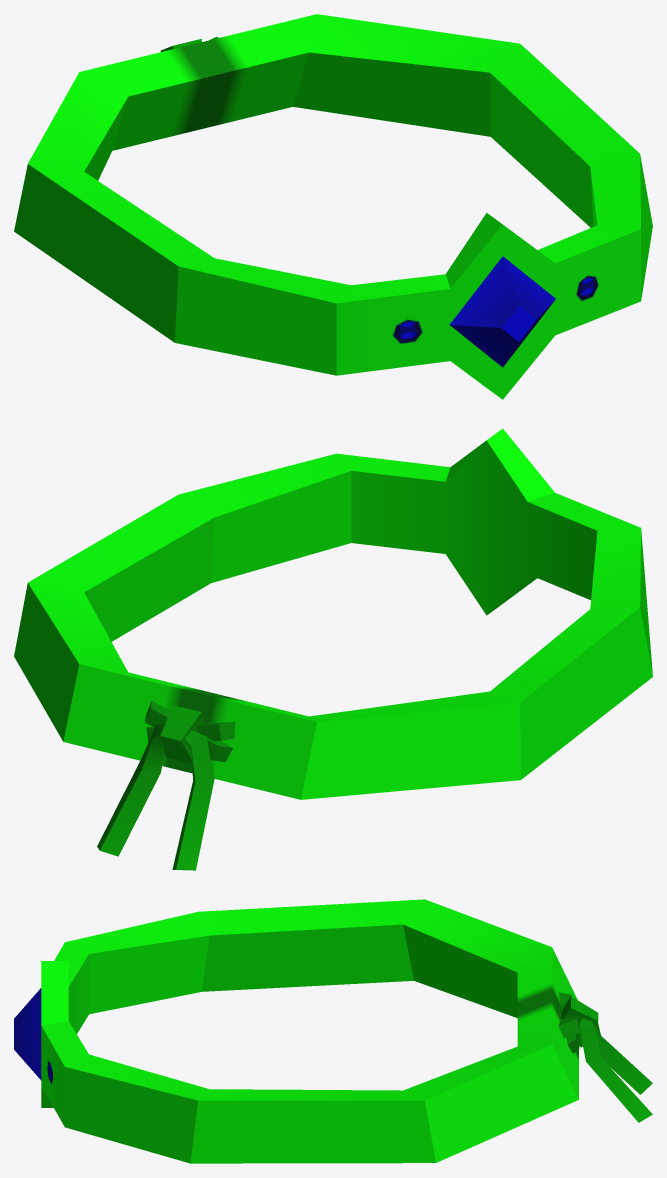
The model's file is LeatherCirclet_M.fbx.
3 views of the same model, one above another, from view 1: azimuth 30°, elevation 25°; view 2: azimuth 150°, elevation 25°; view 3: azimuth 270°, elevation 25° (orthographic). The views are drawn at different scales.
Parts seen in each view (by area): view 1: LeatherCirclet_M; view 2: LeatherCirclet_M; view 3: LeatherCirclet_M.
Boxes of the visible parts, left/top/right/bottom form: LeatherCirclet_M: left=14, top=14, right=652, bottom=399; LeatherCirclet_M: left=14, top=428, right=652, bottom=870; LeatherCirclet_M: left=14, top=899, right=652, bottom=1163.
Size of the model in its own units: 24.13 by 7.98 by 31.44.
